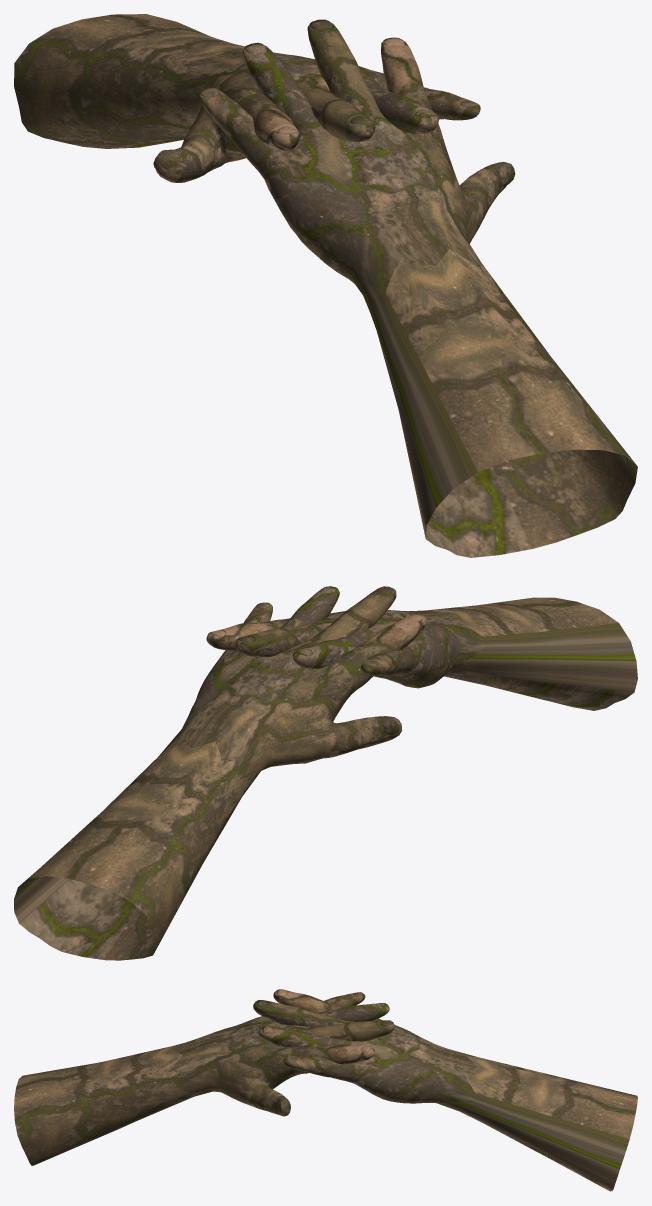
Rendered from hands_000001.obj.
The picture shows the model from 3 angles, top to bottom: view 1: azimuth 30°, elevation 25°; view 2: azimuth 150°, elevation 25°; view 3: azimuth 270°, elevation 25°; orthographic projection. The views are drawn at different scales.
Visible parts, largest first — view 1: hand.001_Mesh.001, hand_Mesh; view 2: hand_Mesh, hand.001_Mesh.001; view 3: hand_Mesh, hand.001_Mesh.001.
Part boxes in pixels (x1,y1,x2,y2): hand.001_Mesh.001: (198, 19, 637, 557); hand_Mesh: (14, 14, 480, 182); hand_Mesh: (14, 586, 426, 960); hand.001_Mesh.001: (206, 597, 637, 710); hand_Mesh: (253, 989, 637, 1191); hand.001_Mesh.001: (14, 992, 394, 1165).
Bounding box in the file's own units: 1.58 × 1.4 × 4.95.
Materials: 1 (1 with a texture image).
